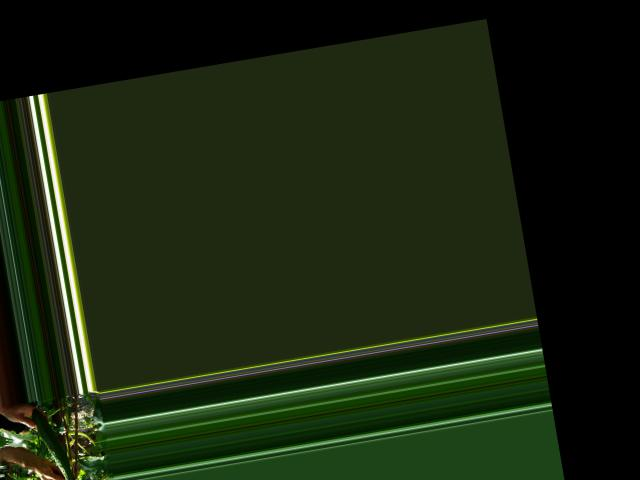cucumber: (30, 404, 73, 480)
